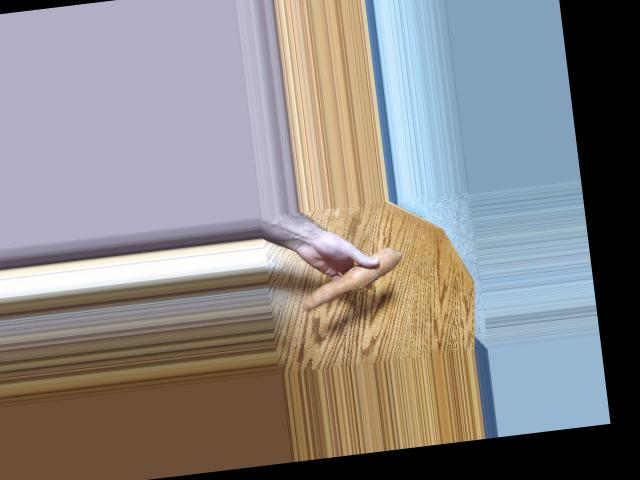sweet_potato: (297, 257, 409, 304)
